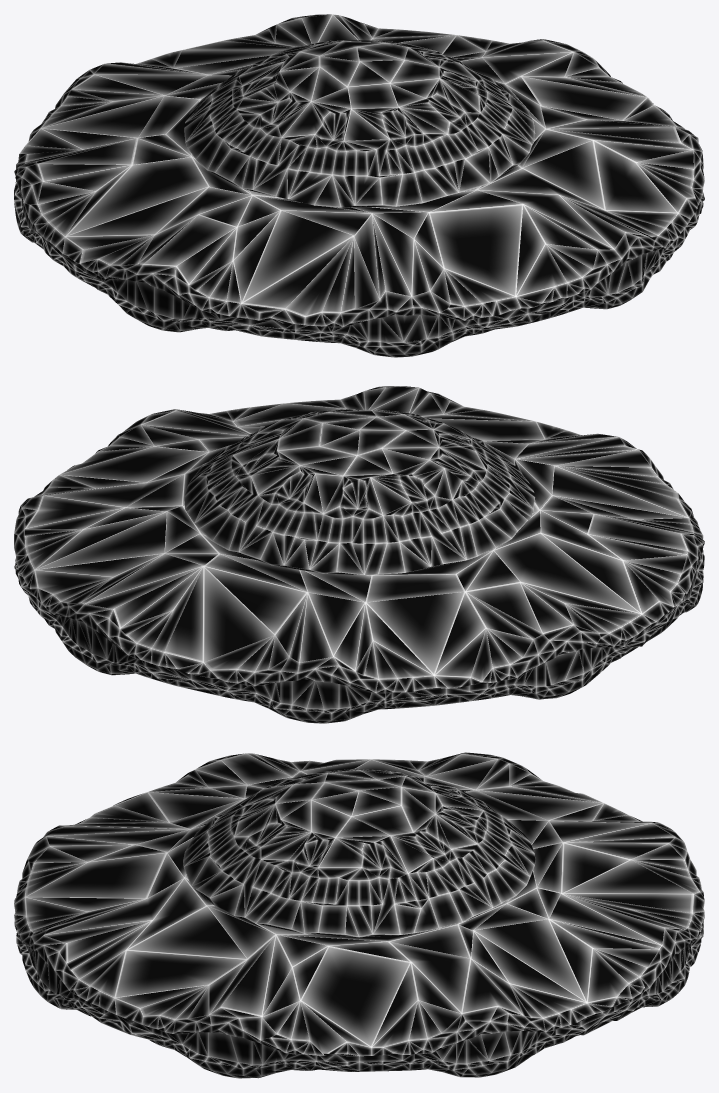
File: frame_042.obj
3 views of the same model, one above another, from view 1: azimuth 30°, elevation 25°; view 2: azimuth 150°, elevation 25°; view 3: azimuth 270°, elevation 25° (orthographic).
Parts seen in each view (by area): view 1: 13884_UFO_Saucer_v1_l2; view 2: 13884_UFO_Saucer_v1_l2; view 3: 13884_UFO_Saucer_v1_l2.
Part boxes in pixels (<box>): 13884_UFO_Saucer_v1_l2: <box>14,14,704,357</box>; 13884_UFO_Saucer_v1_l2: <box>14,386,704,723</box>; 13884_UFO_Saucer_v1_l2: <box>14,752,704,1078</box>.
Bounding box in the file's own units: 12.69 × 4.88 × 12.7.
1 material, 1 textured.
